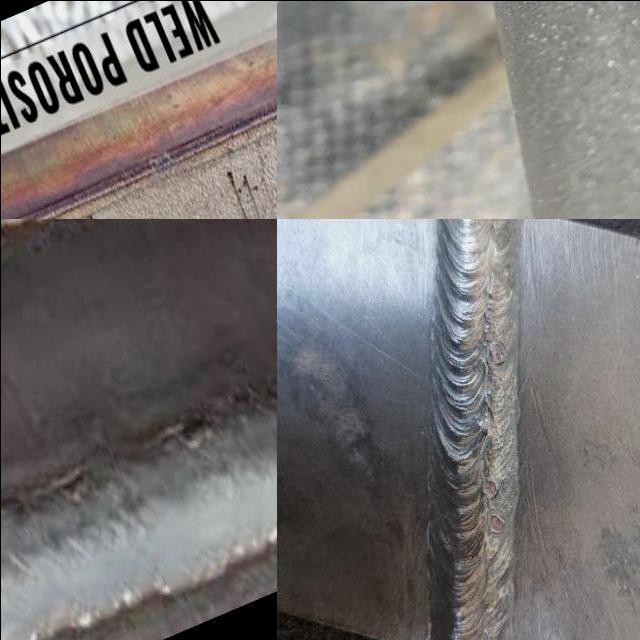defect: (486, 509, 508, 537), (480, 474, 501, 499), (489, 340, 508, 363), (487, 376, 504, 400), (490, 430, 505, 450)
